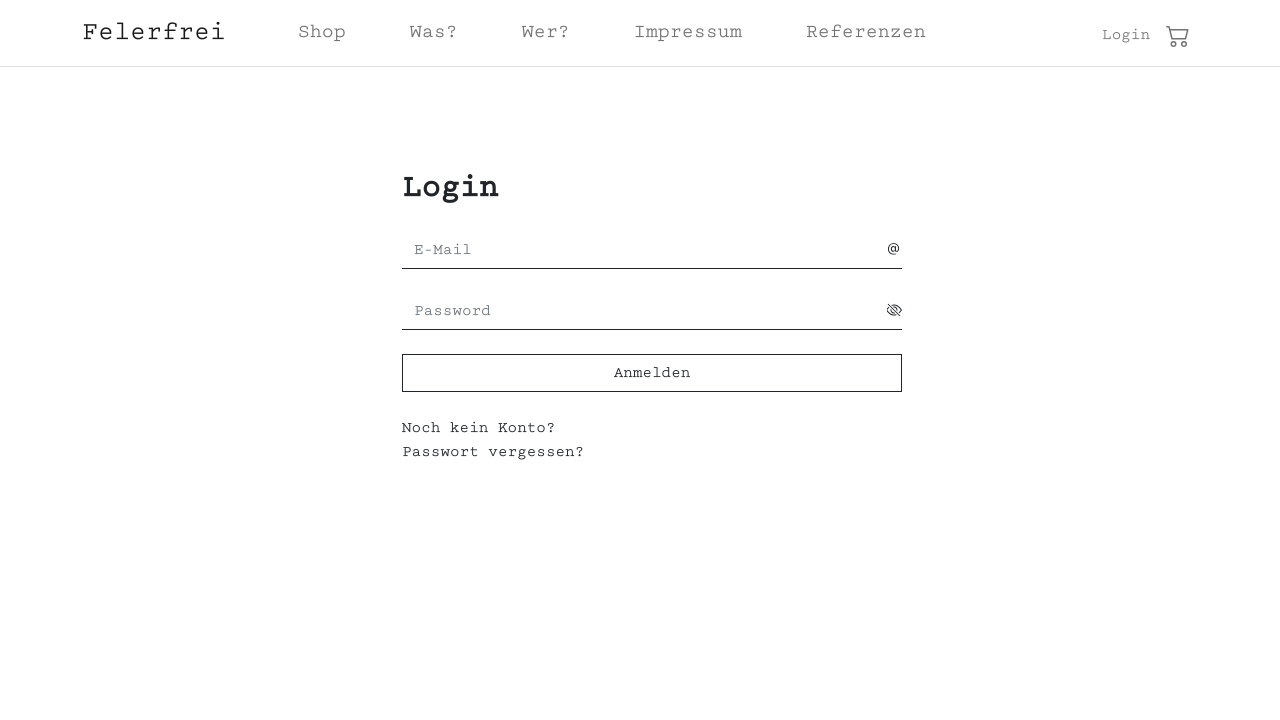
Test case: Login › login#6 login fails
In the field with placeholder "E-Mail": (645, 251) [402, 232, 887, 269], type "notaemail"
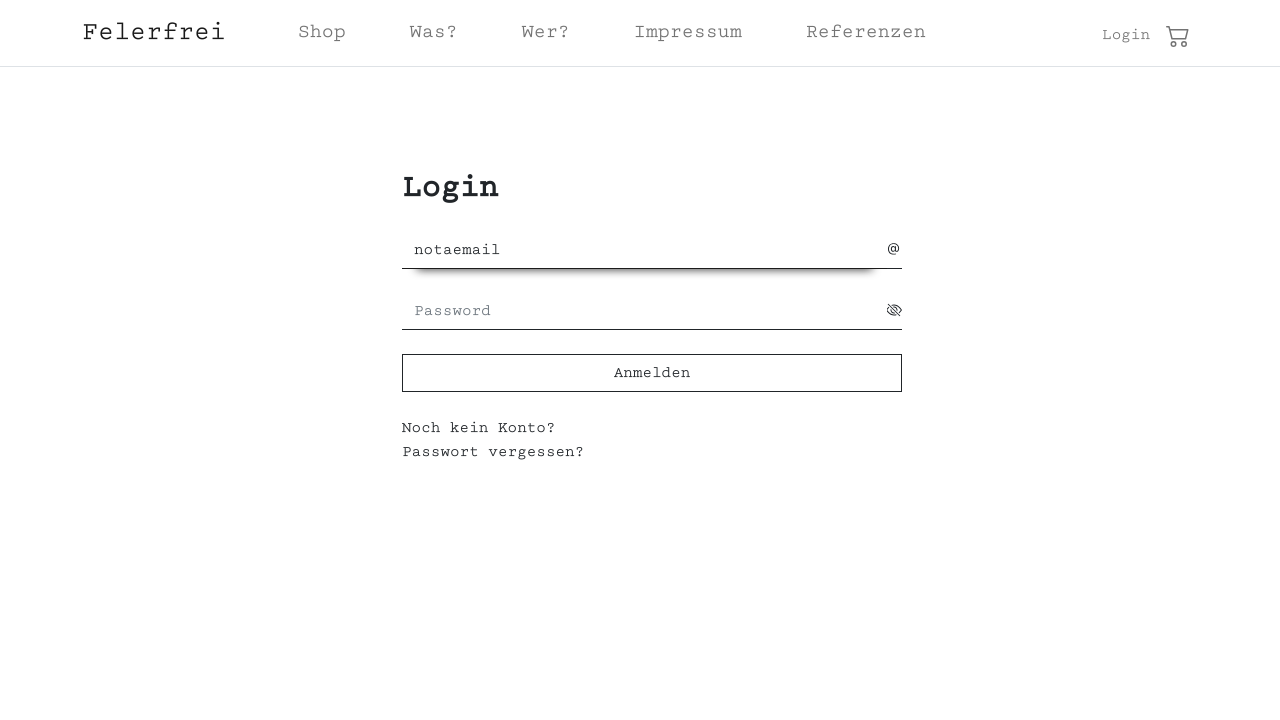
In the password field with placeholder "Password": (645, 312) [402, 293, 887, 330], type "notapassword"
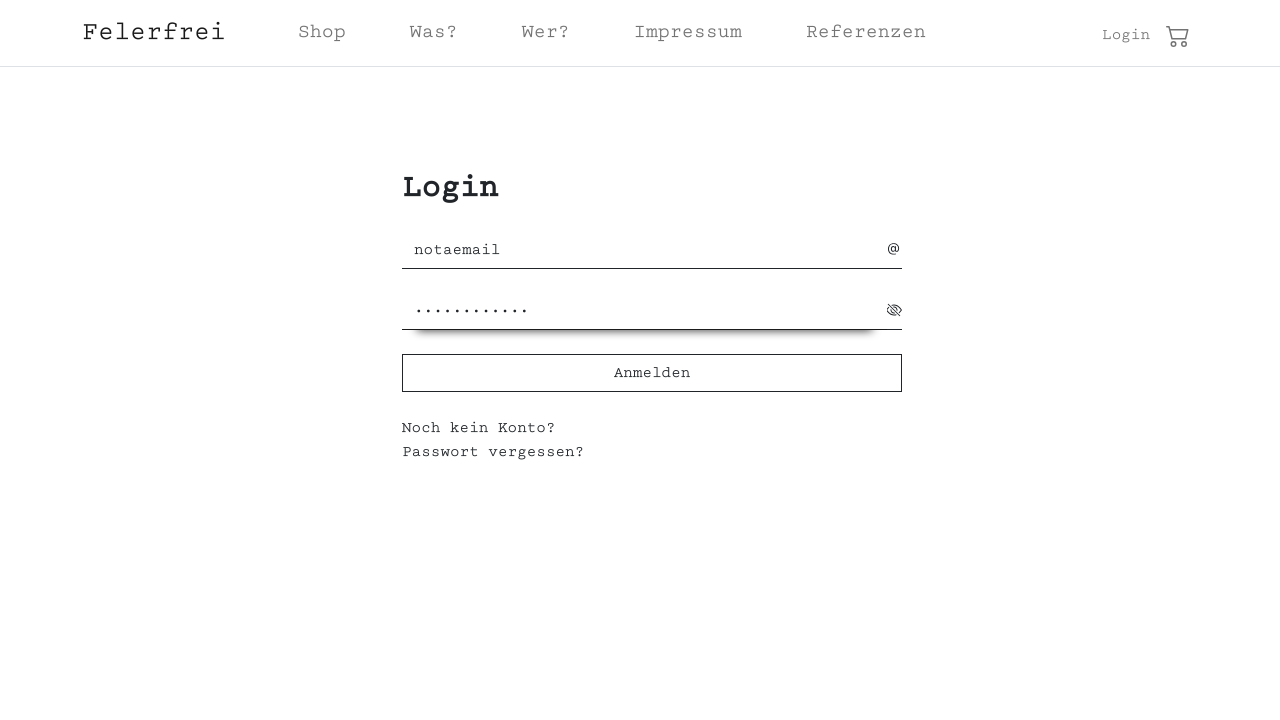
Click the button "Anmelden": click(652, 373) [402, 354, 902, 392]
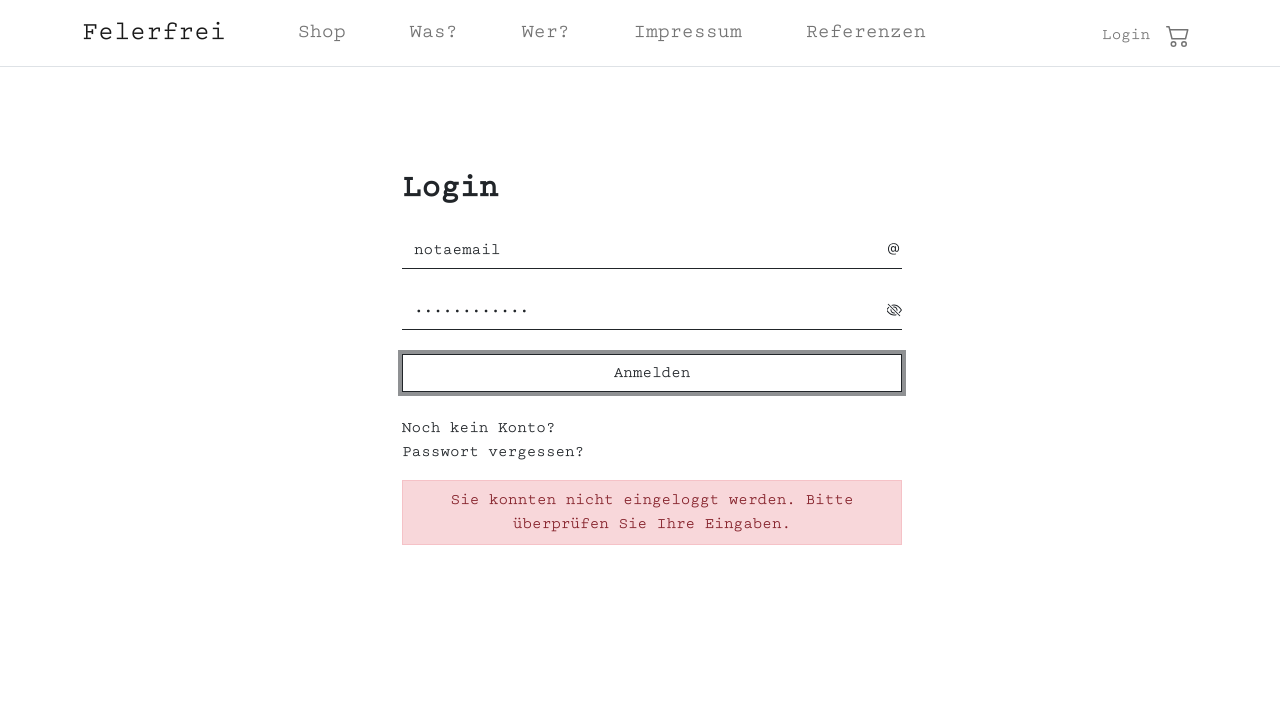
Expected: the text "Sie konnten nicht eingeloggt werden." is shown, [451, 493, 854, 531]
